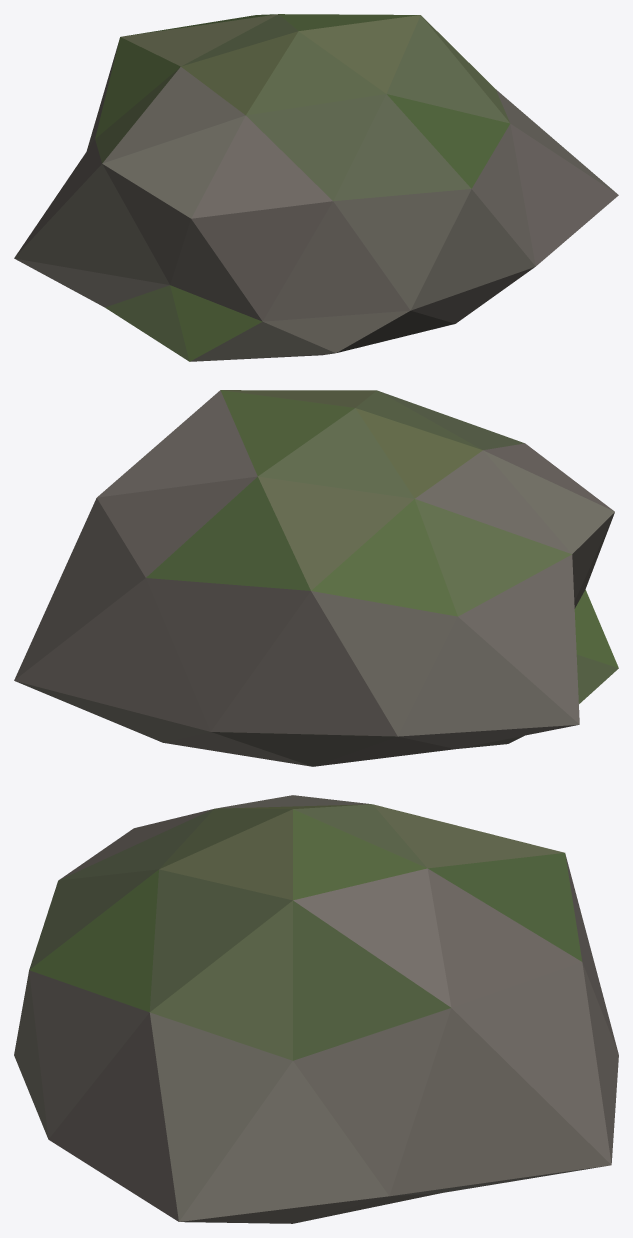
File: env_andesite_b.glb
3 renders of one model, top to bottom at view 1: azimuth 30°, elevation 25°; view 2: azimuth 150°, elevation 25°; view 3: azimuth 270°, elevation 25°, orthographic. The views are drawn at different scales.
Parts seen in each view (by area): view 1: env_andesite_b; view 2: env_andesite_b; view 3: env_andesite_b.
Boxes of the visible parts, x1=… form: env_andesite_b: x1=14, y1=14, x2=618, y2=361; env_andesite_b: x1=14, y1=390, x2=618, y2=766; env_andesite_b: x1=14, y1=795, x2=618, y2=1223.
Bounding box in the file's own units: 2.01 × 1 × 1.63.
